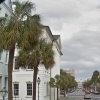Palm tree: (4, 4, 46, 96)
